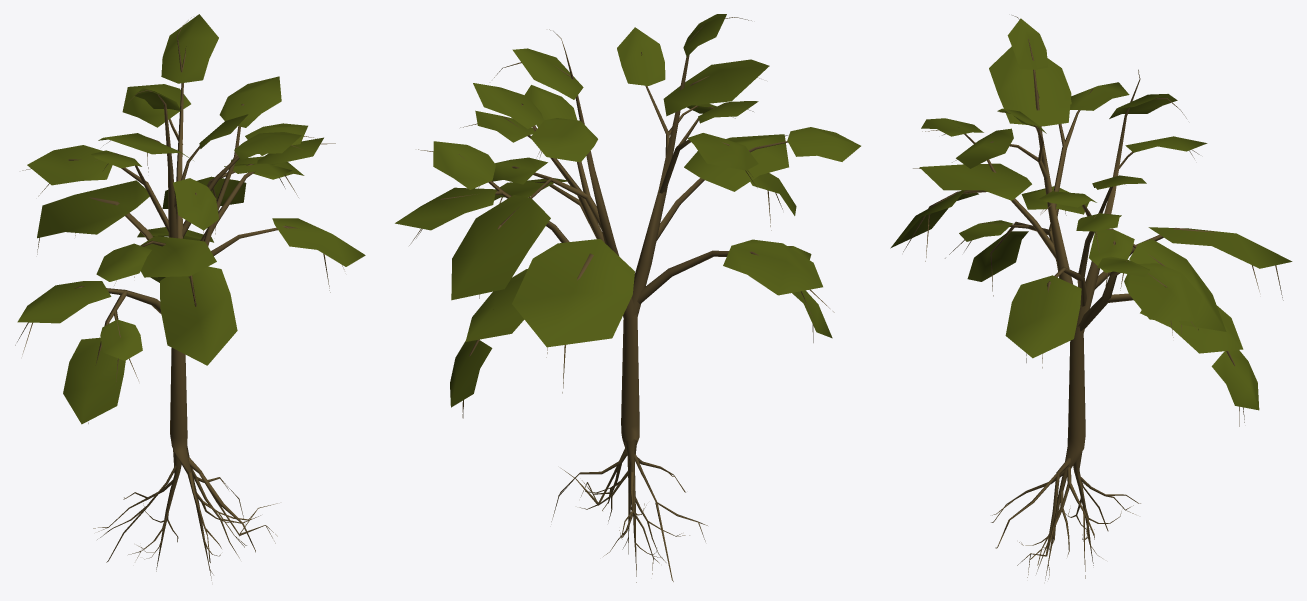
The model's file is Tree01.glb.
3 views of the same model, side by side, from view 1: azimuth 30°, elevation 25°; view 2: azimuth 150°, elevation 25°; view 3: azimuth 270°, elevation 25° (orthographic). The views are drawn at different scales.
Parts seen in each view (by area): view 1: Leaves, Trunk; view 2: Leaves, Trunk; view 3: Leaves, Trunk.
Boxes of the visible parts, x1=… form: Leaves: x1=17, y1=14, x2=365, y2=424; Trunk: x1=15, y1=17, x2=344, y2=580; Leaves: x1=395, y1=14, x2=860, y2=407; Trunk: x1=409, y1=17, x2=834, y2=582; Leaves: x1=890, y1=18, x2=1292, y2=410; Trunk: x1=903, y1=15, x2=1283, y2=580.
Size of the model in its own units: 43.18 by 60.68 by 41.69.
